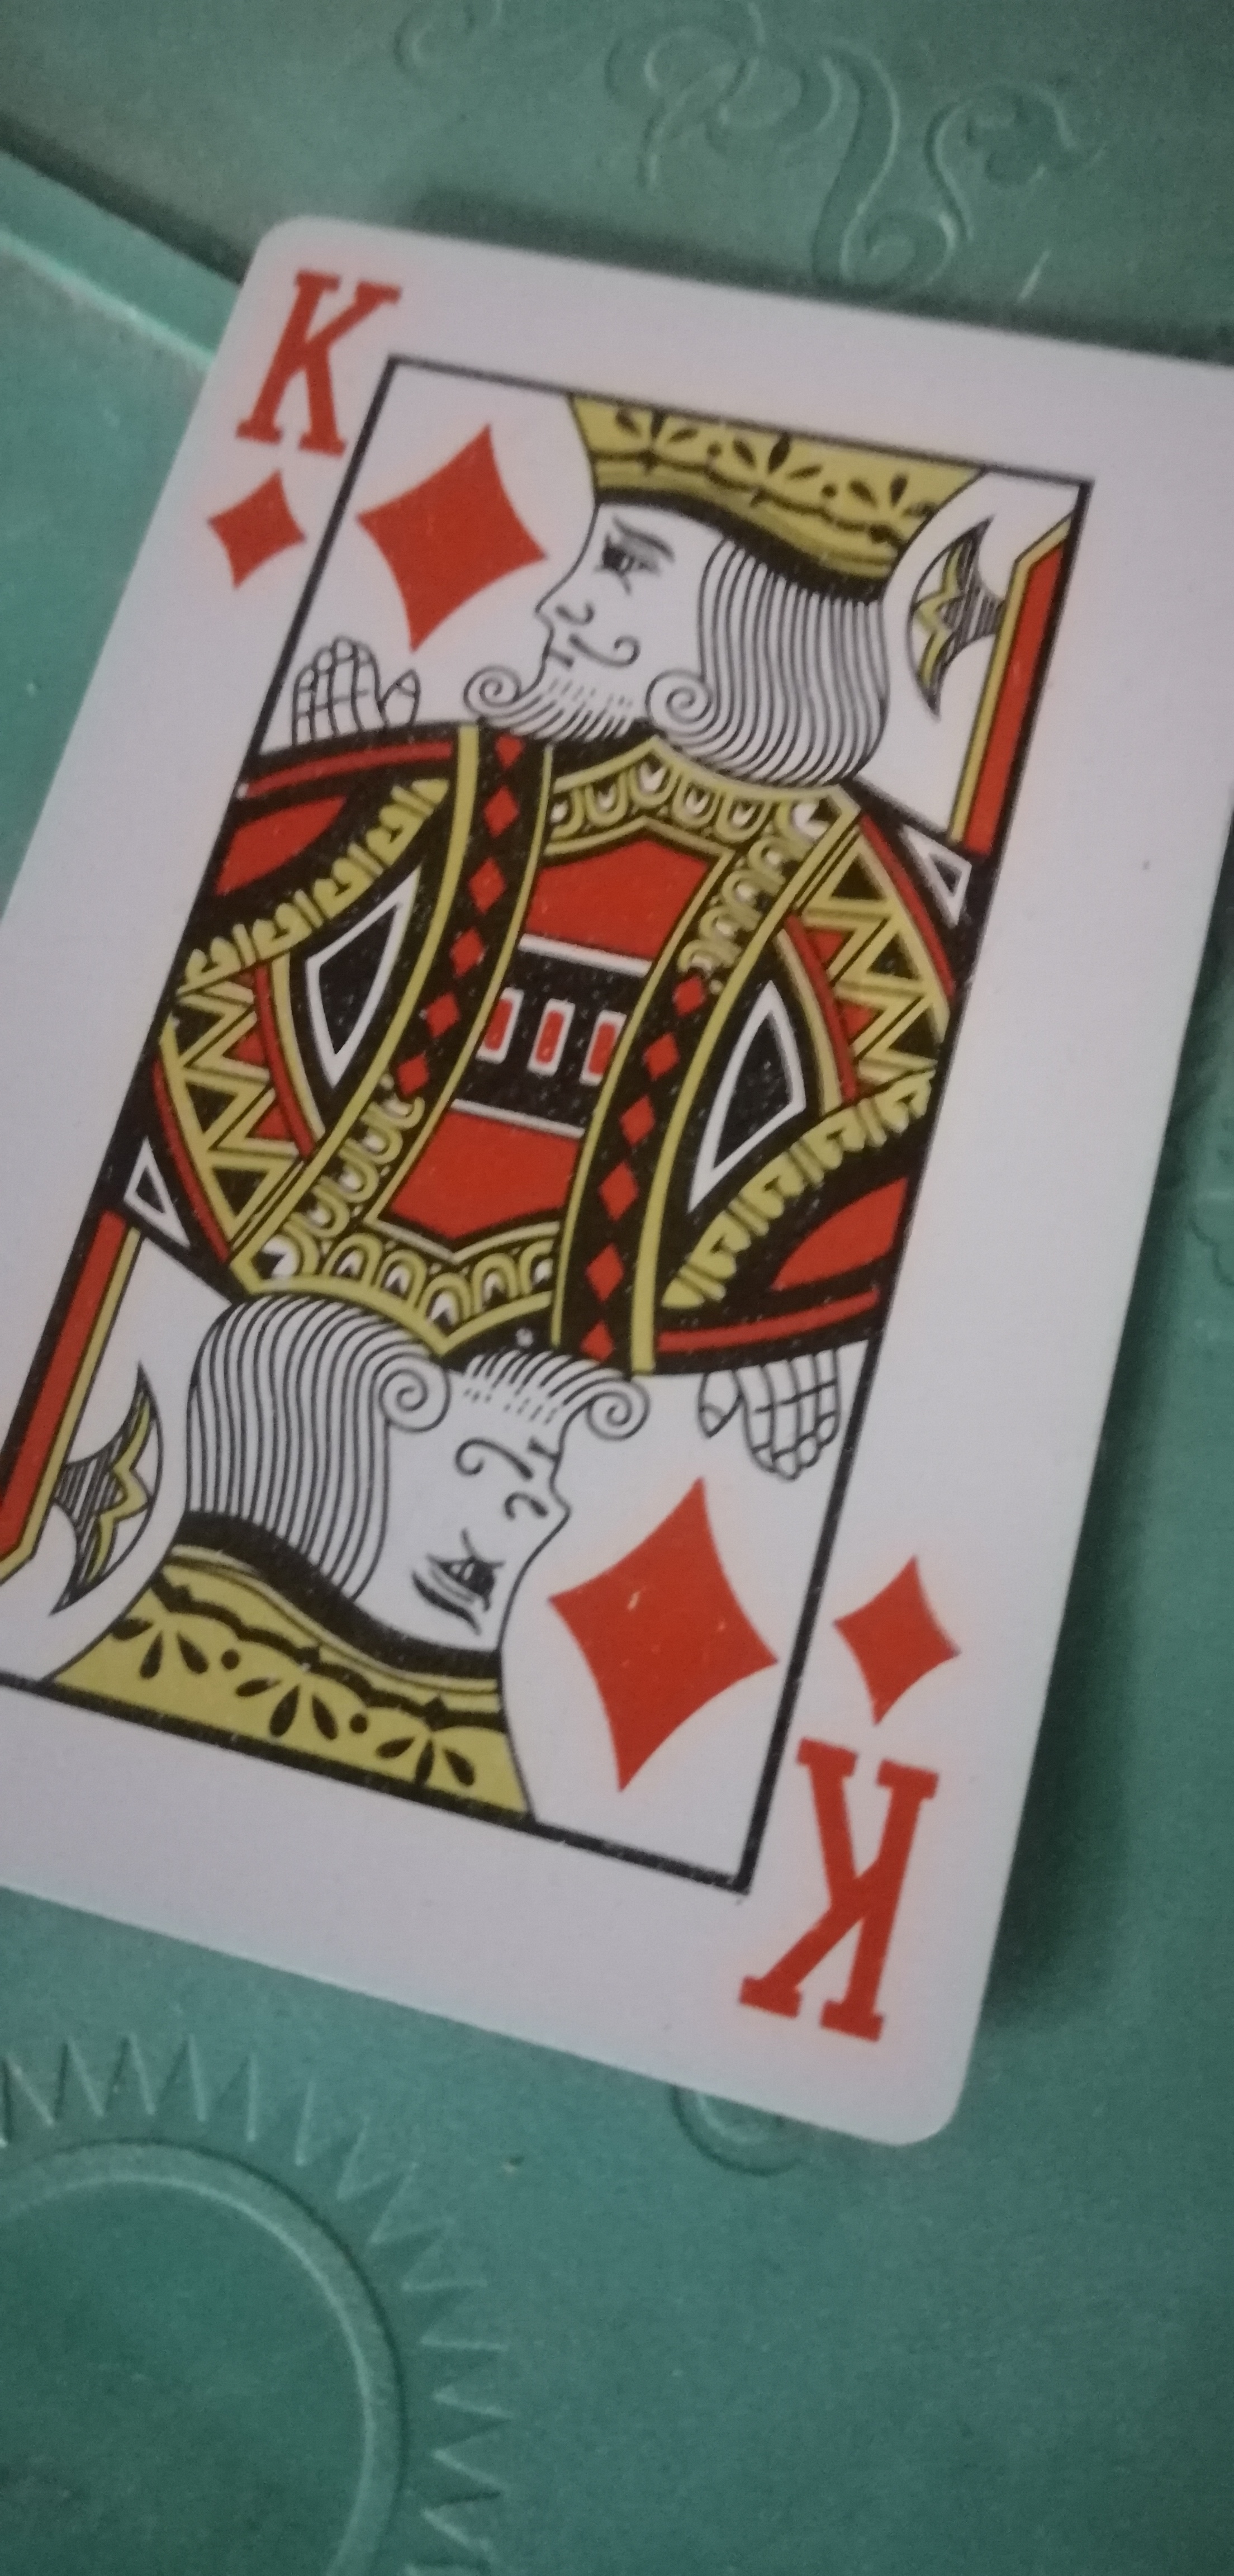king: (43, 202, 1203, 2188)
